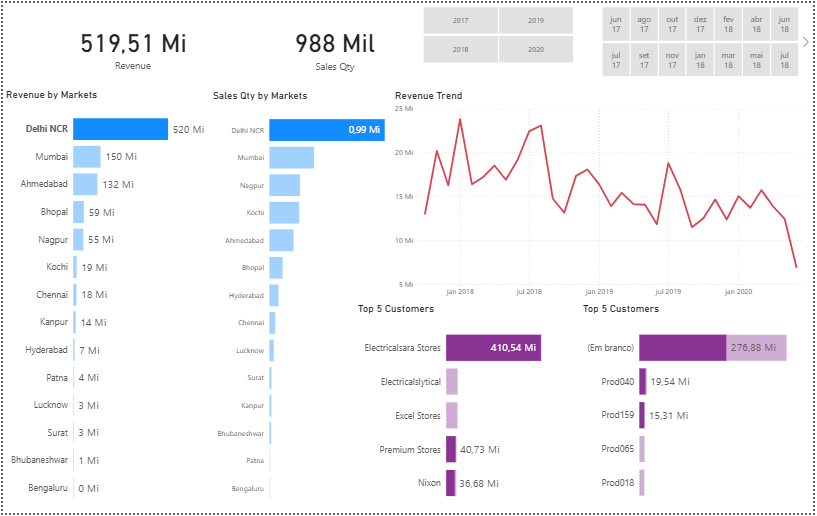

The page's visual inventory and layout, read from the dashboard file:
{"tool":"powerbi","page":{"name":"Página 1","canvas":[1350,850],"ordinal":0},"visuals":[{"type":"card","fields":{"Values":["BaseMeasures.Revenue"]},"box":[0,1.8,432.3,141.7],"z":0},{"type":"card","fields":{"Values":["BaseMeasures.Sales Qty"]},"box":[432.3,3.5,242.7,140],"z":1},{"type":"barChart","title":"Revenue by Markets","fields":{"Y":["BaseMeasures.Revenue"],"Category":["sales markets.markets_name"]},"box":[0,141.7,421.7,708.7],"z":2},{"type":"barChart","title":"Sales Qty by Markets","fields":{"Y":["BaseMeasures.Sales Qty"],"Category":["sales markets.markets_name"]},"box":[345.1,142.8,329.8,707.2],"z":3},{"type":"slicer","fields":{"Values":["sales date.cy_date"]},"box":[974.1,0,375.7,129.2],"z":4},{"type":"slicer","fields":{"Values":["sales date.year"]},"box":[675,0,299.4,106.3],"z":5},{"type":"barChart","title":"Top 5 Customers","fields":{"Y":["BaseMeasures.Revenue"],"Category":["sales customers.custmer_name"]},"box":[586.4,497.8,388,352.6],"z":6},{"type":"barChart","title":"Top 5 Customers","fields":{"Y":["BaseMeasures.Revenue"],"Category":["sales products.product_code"]},"box":[962.2,498.1,387.6,351.9],"z":7},{"type":"lineChart","title":"Revenue Trend","fields":{"Y":["BaseMeasures.Revenue"],"Category":["sales date.cy_date"]},"box":[647.7,142.8,702.1,355.3],"z":8}]}

Visuals, with their boxes in screenshot pixels (x1, y1, x2, y2), scaled from the page's 1350x850 canvas onto the 817x516 screenshot:
card - BaseMeasures.Revenue: [0, 1, 262, 87]
card - BaseMeasures.Sales Qty: [262, 2, 408, 87]
"Revenue by Markets" barChart: [0, 86, 255, 515]
"Sales Qty by Markets" barChart: [209, 87, 408, 515]
slicer - sales date.cy_date: [590, 0, 816, 78]
slicer - sales date.year: [408, 0, 590, 65]
"Top 5 Customers" barChart: [355, 302, 590, 515]
"Top 5 Customers" barChart: [582, 302, 816, 515]
"Revenue Trend" lineChart: [392, 87, 816, 302]
